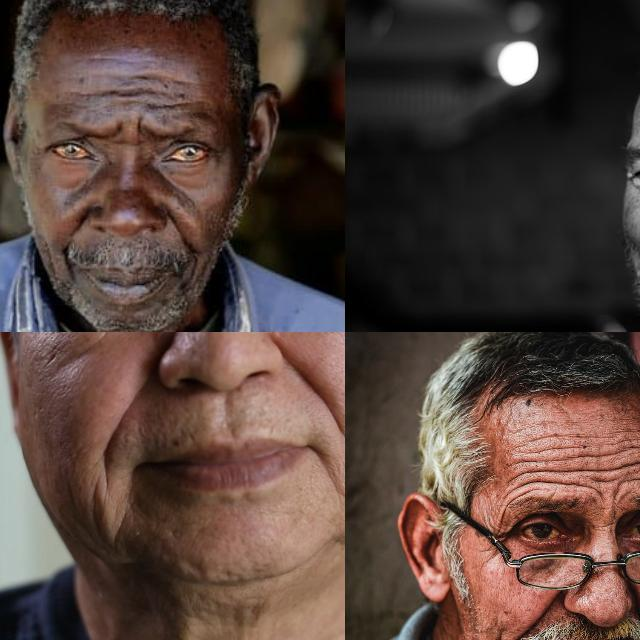chin: (80, 488, 126, 538)
forehead: (595, 449, 631, 498), (553, 450, 591, 494), (510, 452, 544, 492), (539, 425, 595, 449), (102, 82, 156, 106), (136, 67, 180, 89), (149, 95, 191, 115)
frown_line: (129, 114, 149, 138), (110, 118, 128, 140)
gummy_smile: (94, 384, 150, 468), (282, 355, 345, 424), (516, 593, 564, 631), (165, 210, 189, 240), (68, 206, 90, 234)
masseter: (488, 625, 509, 640)
sad_smile: (308, 443, 342, 479)
